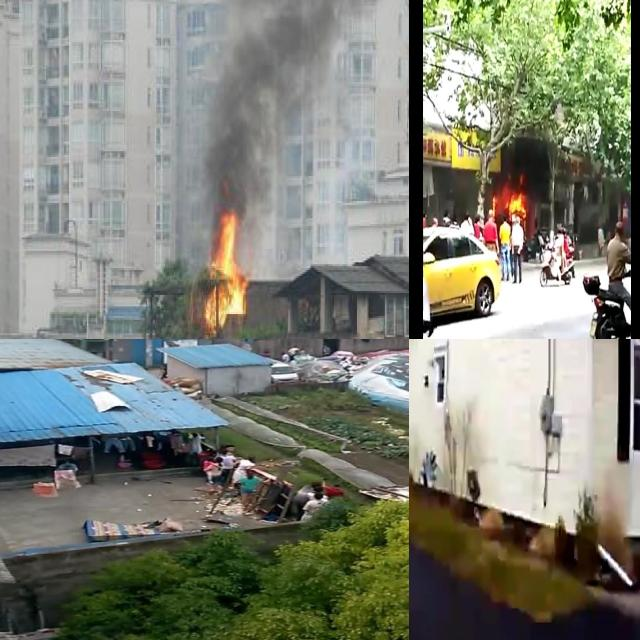fire: (200, 212, 246, 326), (506, 191, 525, 218)
smoke: (213, 0, 344, 97), (204, 21, 272, 207), (509, 136, 551, 193)
